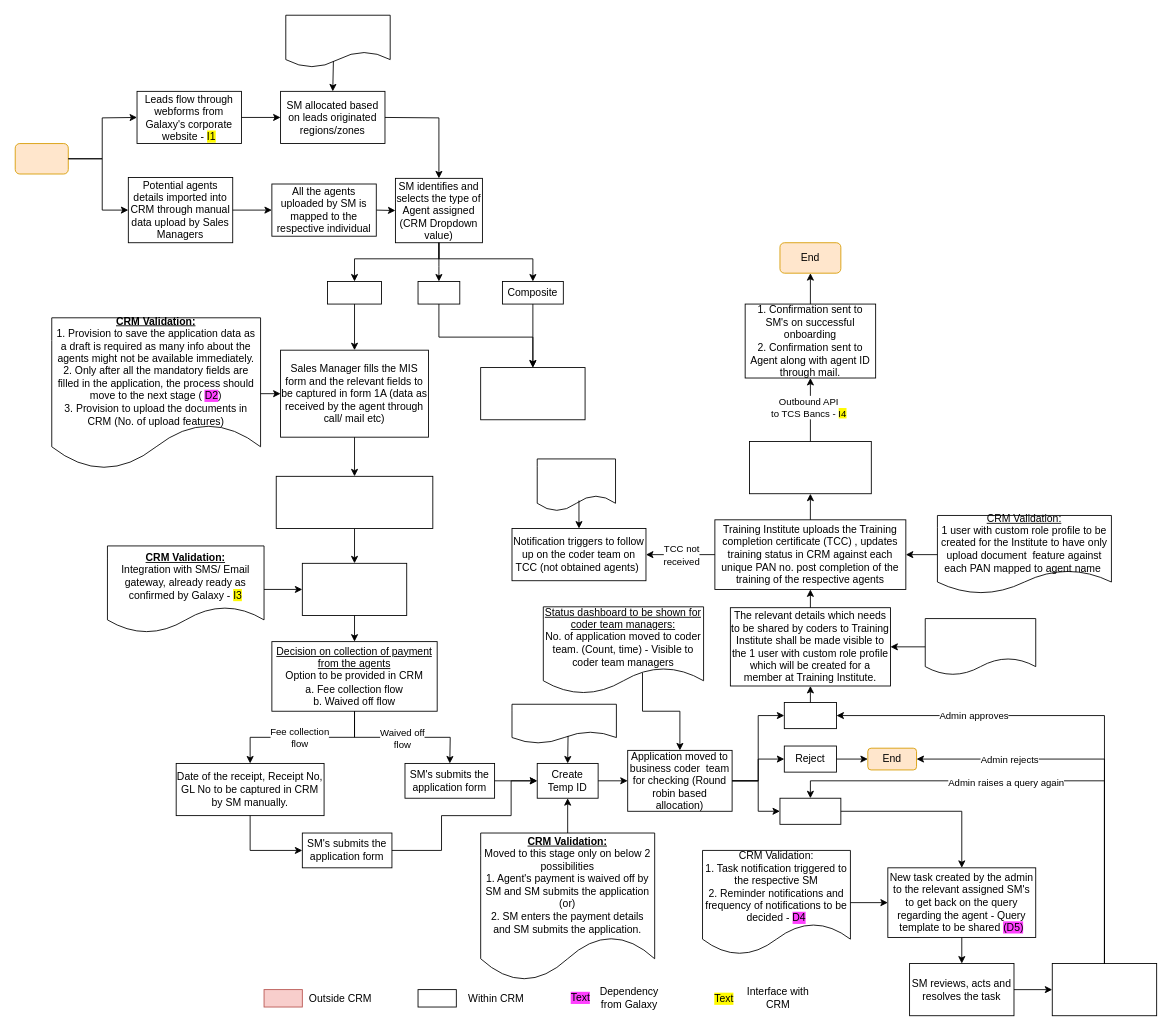
Some shapes in this 1172 by 1031 pixel diagram are drawn without their labels. The shapes that lost their labels are listed below. From the top down, each one's centre as x and y in pixels, then its label:
At (337,40): "Region, logic and user profiles of SM's to be shared - D1".
At (41,158): "Start".
At (354,292): "POSP".
At (438,292): "IC38".
At (532,393): "Shown in separate flow".
At (576,484): "Frequency of notifications to be decided D7".
At (810,467): "1. Agent ID creation in CRM 2. Appointment letter generation - (D14)".
At (354,502): "KYC validatation by SM's through integration - I2".
At (354,589): "Agent to provide the consent to start the onboarding (OTP based)".
At (980,646): "Fields needs to be visible to Institute - To be decided - D6".
At (563,723): "The format of this ID to be defined - D3".
At (810,715): "Approve".
At (810,810): "Raise a query".
At (1104,989): "Notification sent back to Admin".
